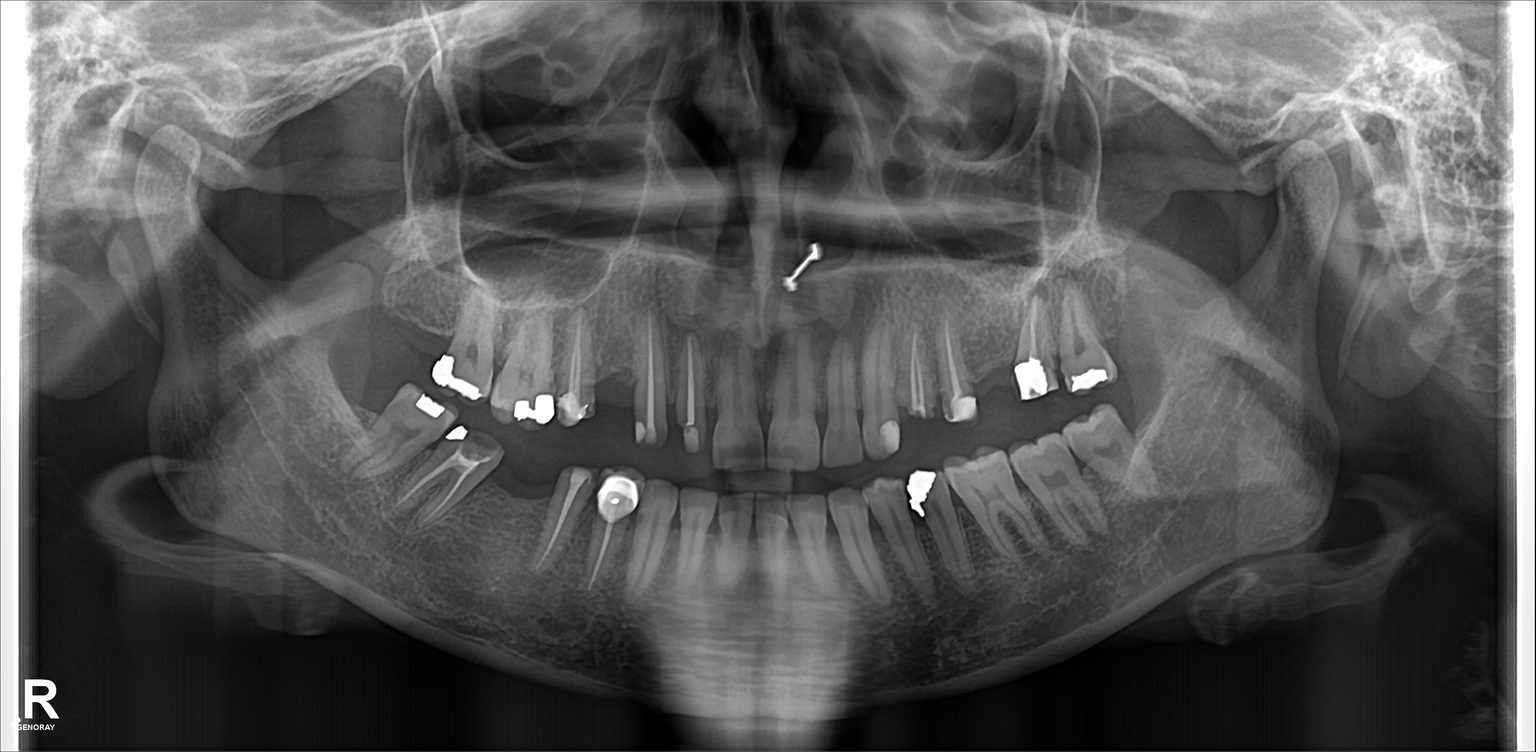Endodontically Treated Tooth: (412, 435, 496, 516), (935, 322, 974, 425), (551, 320, 591, 419), (596, 471, 627, 585), (635, 320, 663, 445), (551, 478, 584, 578), (680, 329, 705, 448), (1024, 303, 1053, 399), (913, 326, 930, 420)
Missing Tooth: (492, 454, 544, 547), (600, 322, 639, 439), (406, 266, 453, 361), (367, 262, 405, 367), (985, 315, 1015, 410), (345, 376, 375, 439)
